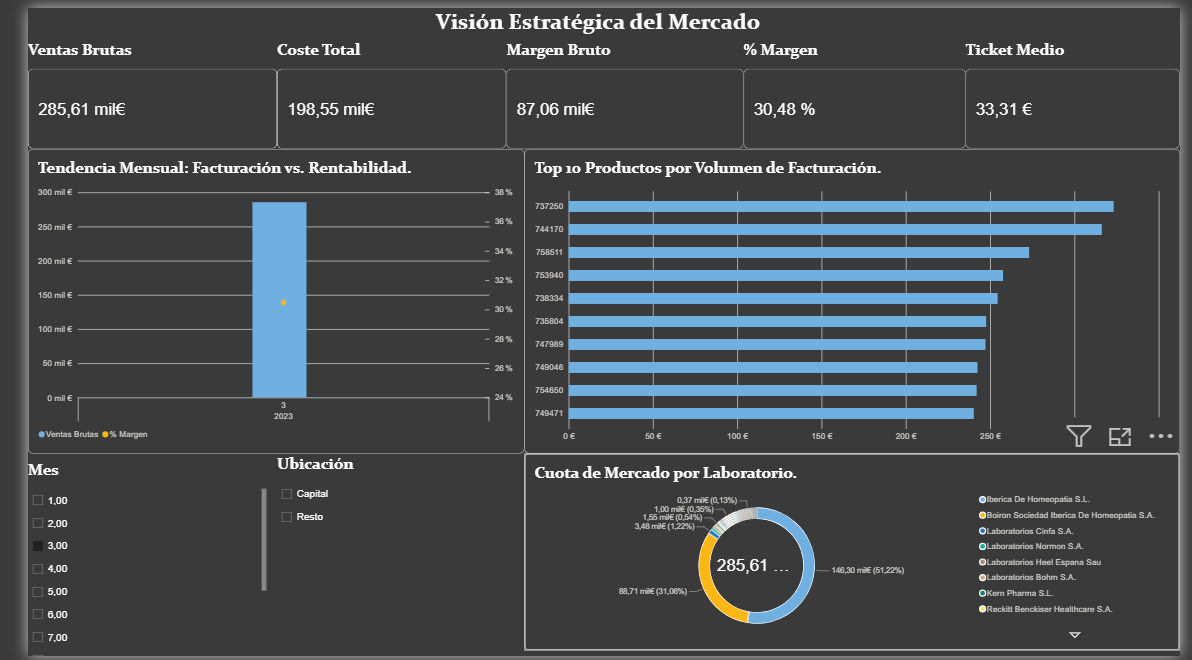

This screenshot's page, from the dashboard's own definition file:
{"tool":"powerbi","page":{"name":"Visión Estratégica del Mercado","canvas":[1920,1080],"ordinal":0},"visuals":[{"type":"cardVisual","title":"Ventas Brutas","fields":{"Data":["_Medidas.Ventas Brutas"]},"box":[0,52.5,415,182.5],"z":0},{"type":"cardVisual","title":"Coste Total","fields":{"Data":["_Medidas.Coste Total"]},"box":[415,52.5,382.5,182.5],"z":1000},{"type":"cardVisual","title":"Margen Bruto","fields":{"Data":["_Medidas.Margen Bruto"]},"box":[797.5,52.5,395,182.5],"z":2000},{"type":"cardVisual","title":" % Margen","fields":{"Data":["_Medidas.% Margen"]},"box":[1192.5,52.5,370,182.5],"z":3000},{"type":"cardVisual","title":"Ticket Medio","fields":{"Data":["_Medidas.Ticket Medio"]},"box":[1562.5,52.5,357.5,182.5],"z":4000},{"type":"lineClusteredColumnComboChart","title":"Tendencia Mensual: Facturación vs. Rentabilidad.","fields":{"Category":["Dim_Tiempo.Anio","Dim_Tiempo.Mes"],"Y":["_Medidas.Ventas Brutas"],"Y2":["_Medidas.% Margen"]},"box":[0,235,827.5,507.5],"z":5000},{"type":"clusteredBarChart","title":"Top 10 Productos por Volumen de Facturación.","fields":{"Y":["_Medidas.Ventas Brutas"],"Category":["Dim_Producto.Cod_Nacional"]},"box":[827.5,235,1092.5,507.5],"z":6000},{"type":"slicer","title":"Mes","fields":{"Values":["Dim_Tiempo.Mes"]},"box":[0,752.5,397.5,327.5],"z":7000},{"type":"slicer","title":"Ubicación","fields":{"Values":["Dim_Farmacia.Ubicacion"]},"box":[415,742.5,412.5,327.5],"z":8000},{"type":"donutChart","title":"Cuota de Mercado por Laboratorio.","fields":{"Category":["Dim_Producto.Laboratorio"],"Y":["_Medidas.Ventas Brutas"]},"box":[827.5,742.5,1092.5,327.5],"z":9000},{"type":"textbox","box":[1678,53,242,183],"z":10000},{"type":"textbox","box":[100,0,1700,52.5],"z":11000}]}

Visuals, with their boxes in screenshot pixels (x1, y1, x2, y2), scaled from the page's 1920x1080 canvas onto the 1192x660 screenshot:
"Ventas Brutas" cardVisual: [left=0, top=32, right=258, bottom=144]
"Coste Total" cardVisual: [left=258, top=32, right=495, bottom=144]
"Margen Bruto" cardVisual: [left=495, top=32, right=740, bottom=144]
" % Margen" cardVisual: [left=740, top=32, right=970, bottom=144]
"Ticket Medio" cardVisual: [left=970, top=32, right=1191, bottom=144]
"Tendencia Mensual: Facturación vs. Rentabilidad." lineClusteredColumnComboChart: [left=0, top=144, right=514, bottom=454]
"Top 10 Productos por Volumen de Facturación." clusteredBarChart: [left=514, top=144, right=1191, bottom=454]
"Mes" slicer: [left=0, top=460, right=247, bottom=659]
"Ubicación" slicer: [left=258, top=454, right=514, bottom=654]
"Cuota de Mercado por Laboratorio." donutChart: [left=514, top=454, right=1191, bottom=654]
textbox: [left=1042, top=32, right=1191, bottom=144]
textbox: [left=62, top=0, right=1118, bottom=32]
